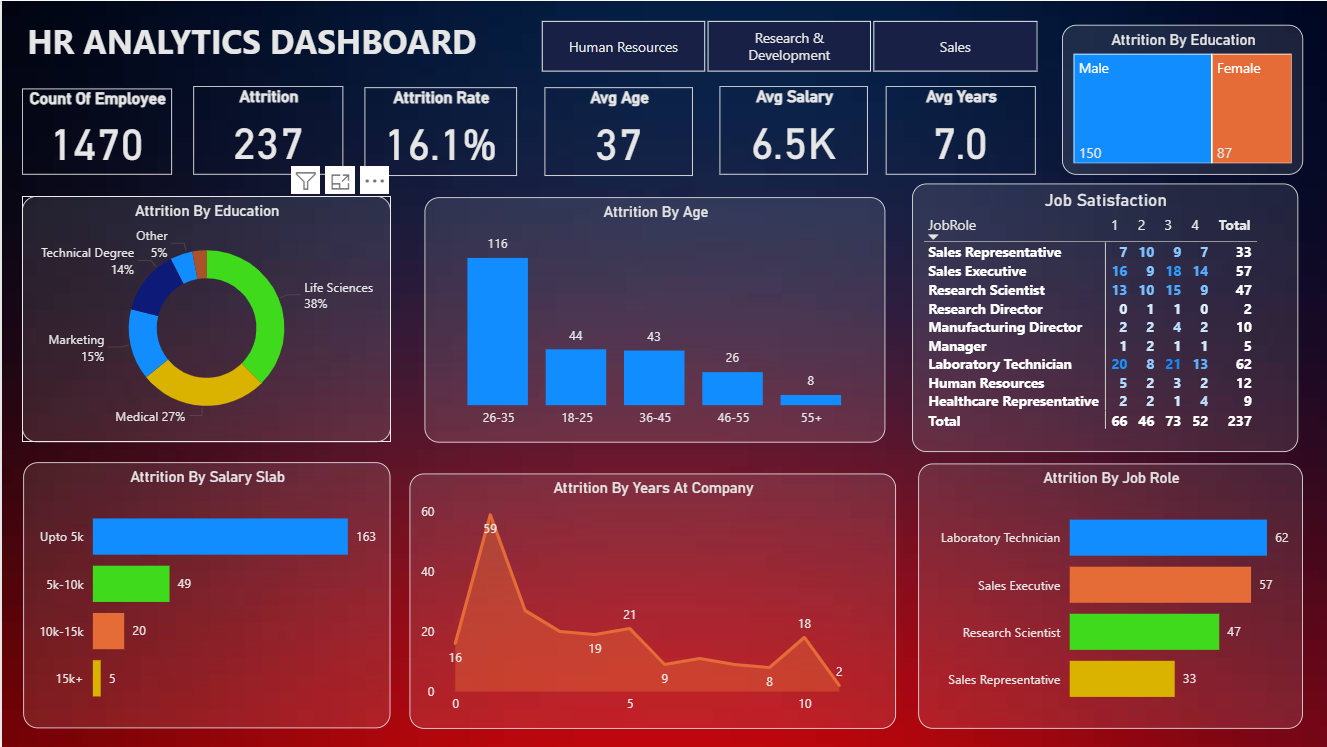

Layout of this report page (visuals, bound fields, positions):
{"tool":"powerbi","page":{"name":"Page 1","canvas":[1280,720],"ordinal":0},"visuals":[{"type":"card","title":"Count Of Employee","fields":{"Values":["CountNonNull(HR_Analytics.EmpID)"]},"box":[19.3,84.5,144.8,83.2],"z":0},{"type":"card","title":"Attrition","fields":{"Values":["Sum(HR_Analytics.AttritionCount)"]},"box":[184.6,82,144.8,85.7],"z":1000},{"type":"card","title":"Attrition Rate","fields":{"Values":["HR_Analytics.AttritionRate"]},"box":[349.9,83.2,147.2,85.7],"z":2000},{"type":"card","title":"Avg Age","fields":{"Values":["Avg(HR_Analytics.Age)"]},"box":[523.6,83.2,143.6,85.7],"z":3000},{"type":"card","title":"Avg Salary","fields":{"Values":["Avg(HR_Analytics.MonthlyIncome)"]},"box":[692.5,82,143.6,85.7],"z":4000},{"type":"card","title":"Avg Years","fields":{"Values":["Avg(HR_Analytics.YearsAtCompany)"]},"box":[853,82,144.8,85.7],"z":5000},{"type":"donutChart","title":"Attrition By Education","fields":{"Category":["HR_Analytics.EducationField"],"Y":["Sum(HR_Analytics.AttritionCount)"]},"box":[19.3,188.2,355.9,237.7],"z":6000},{"type":"columnChart","title":"Attrition By Age","fields":{"Category":["HR_Analytics.AgeGroup"],"Y":["Sum(HR_Analytics.AttritionCount)"]},"box":[407.8,189.4,445.2,236.5],"z":7000},{"type":"pivotTable","title":"Job Satisfaction","fields":{"Rows":["HR_Analytics.JobRole"],"Columns":["HR_Analytics.JobSatisfaction"],"Values":["Sum(HR_Analytics.AttritionCount)"]},"box":[878.3,176.1,373,259.4],"z":8000},{"type":"barChart","title":"Attrition By Salary Slab","fields":{"Category":["HR_Analytics.SalarySlab"],"Y":["Sum(HR_Analytics.AttritionCount)"]},"box":[20.6,444.6,354,256.6],"z":9000},{"type":"barChart","title":"Attrition By Job Role","fields":{"Category":["HR_Analytics.JobRole"],"Y":["Sum(HR_Analytics.AttritionCount)"]},"box":[884.6,446.4,371.3,255.8],"z":10000},{"type":"areaChart","title":"Attrition By Years At Company","fields":{"Category":["HR_Analytics.YearsAtCompany"],"Y":["Sum(HR_Analytics.AttritionCount)"]},"box":[393.3,456,469.3,246.1],"z":11000},{"type":"treemap","title":"Attrition By Education","fields":{"Group":["HR_Analytics.Gender"],"Values":["Sum(HR_Analytics.AttritionCount)"]},"box":[1023.1,22.9,232.8,144.8],"z":12000},{"type":"slicer","fields":{"Values":["HR_Analytics.Department"]},"box":[494.6,12.1,528.4,62.7],"z":13000},{"type":"textbox","box":[19.3,12.1,471.7,63.9],"z":14000}]}

Visuals, with their boxes in screenshot pixels (x1, y1, x2, y2), scaled from the page's 1280x720 canvas onto the 1327x747 screenshot:
"Count Of Employee" card: (20, 88, 170, 174)
"Attrition" card: (191, 85, 341, 174)
"Attrition Rate" card: (363, 86, 515, 175)
"Avg Age" card: (543, 86, 692, 175)
"Avg Salary" card: (718, 85, 867, 174)
"Avg Years" card: (884, 85, 1034, 174)
"Attrition By Education" donutChart: (20, 195, 389, 442)
"Attrition By Age" columnChart: (423, 197, 884, 442)
"Job Satisfaction" pivotTable: (911, 183, 1297, 452)
"Attrition By Salary Slab" barChart: (21, 461, 388, 727)
"Attrition By Job Role" barChart: (917, 463, 1302, 729)
"Attrition By Years At Company" areaChart: (408, 473, 894, 728)
"Attrition By Education" treemap: (1061, 24, 1302, 174)
slicer - HR_Analytics.Department: (513, 13, 1061, 78)
textbox: (20, 13, 509, 79)
